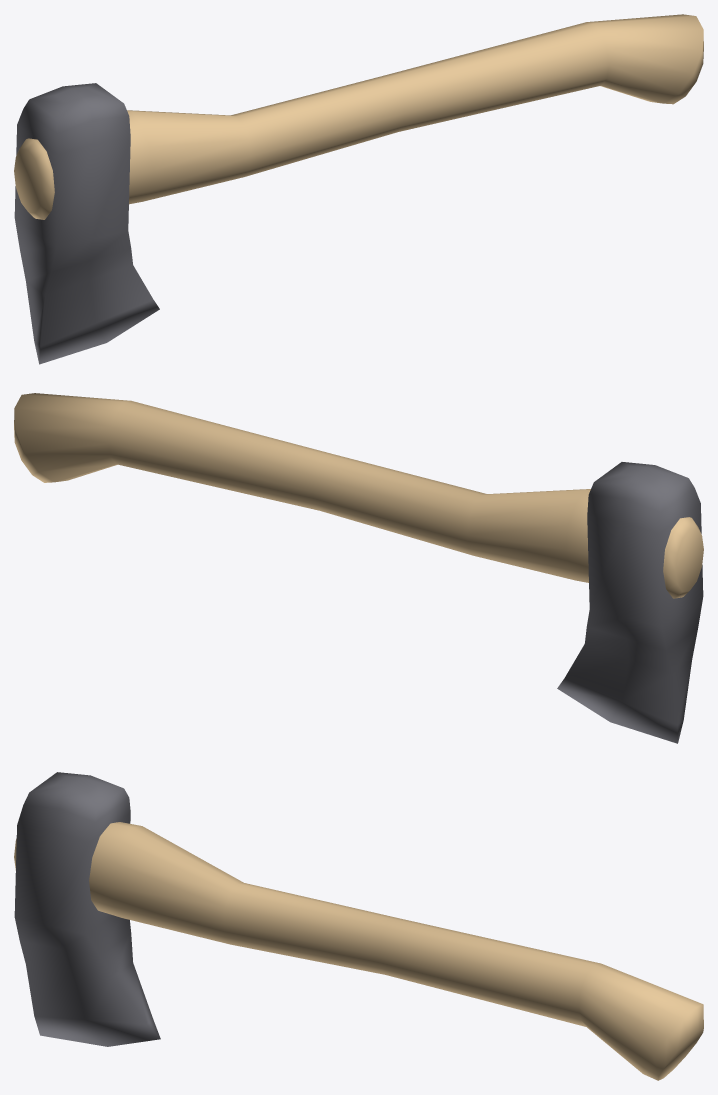
File: ExportedBlenderFBXFile.fbx
3 views of the same model, one above another, from view 1: azimuth 30°, elevation 25°; view 2: azimuth 150°, elevation 25°; view 3: azimuth 330°, elevation 25° (orthographic).
Parts seen in each view (by area): view 1: Cube; view 2: Cube; view 3: Cube.
Boxes of the visible parts, x1=… form: Cube: x1=14, y1=14, x2=703, y2=364; Cube: x1=14, y1=393, x2=703, y2=743; Cube: x1=14, y1=772, x2=703, y2=1080.
Size of the model in its own units: 7.9 by 2.96 by 0.8486.
